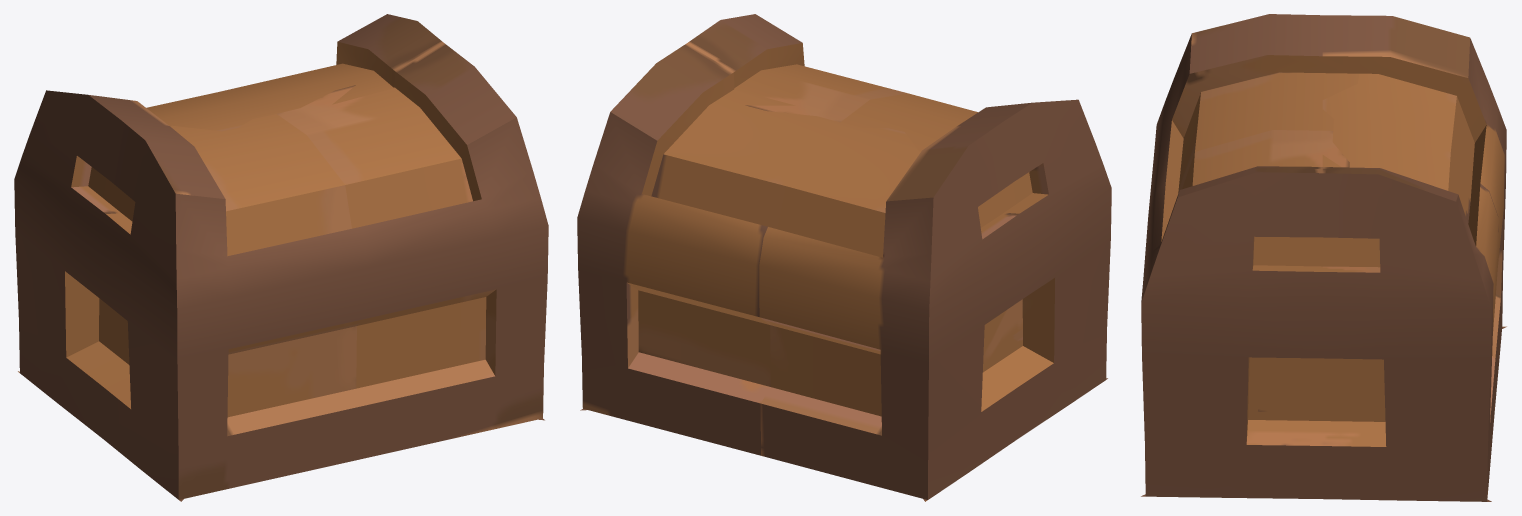
Rendered from Bau.fbx.
3 views of the same model, side by side, from view 1: azimuth 30°, elevation 25°; view 2: azimuth 150°, elevation 25°; view 3: azimuth 270°, elevation 25° (orthographic).
Visible parts, largest first — view 1: Bau; view 2: Bau; view 3: Bau.
Part boxes in pixels (x1=…): Bau: x1=14, y1=14, x2=548, y2=501; Bau: x1=577, y1=14, x2=1111, y2=501; Bau: x1=1141, y1=14, x2=1506, y2=501.
Bounding box in the file's own units: 108 × 86.78 × 90.98.
